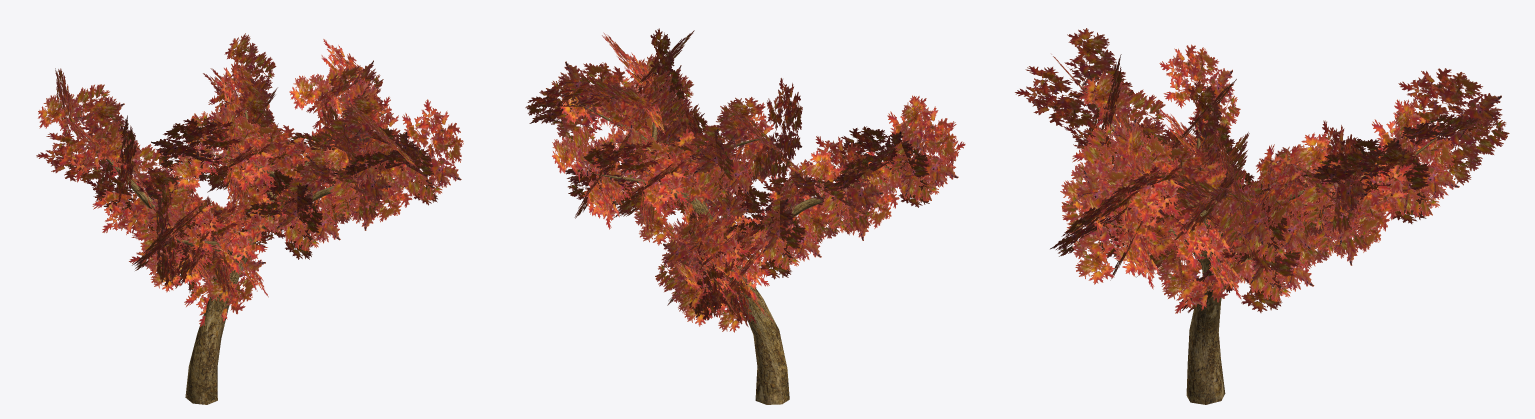
Rendered from Tree11.FBX.
The picture shows the model from 3 angles, left to right: view 1: azimuth 30°, elevation 25°; view 2: azimuth 150°, elevation 25°; view 3: azimuth 270°, elevation 25°; orthographic projection. The views are drawn at different scales.
Visible parts, largest first — view 1: Plane92, Plane105, Plane70, Cylinder10, Plane80, Plane66, Plane106, Plane102, Plane69, Plane89, Plane110, Plane85 (+34 smaller); view 2: Plane81, Plane71, Cylinder10, Plane113, Plane97, Plane77, Plane100, Plane98, Plane106, Plane104, Plane78, Plane103 (+29 smaller); view 3: Plane71, Plane111, Plane99, Plane114, Plane91, Plane82, Cylinder10, Plane68, Plane106, Plane79, Plane98, Plane100 (+30 smaller).
Boxes of the visible parts, left/top/right/bottom form: Plane92: left=376, top=99, right=463, bottom=200; Plane105: left=170, top=103, right=274, bottom=192; Plane70: left=38, top=84, right=124, bottom=182; Cylinder10: left=185, top=109, right=385, bottom=404; Plane80: left=136, top=191, right=225, bottom=292; Plane66: left=92, top=131, right=177, bottom=234; Plane106: left=151, top=117, right=241, bottom=187; Plane102: left=218, top=123, right=318, bottom=215; Plane69: left=36, top=97, right=139, bottom=182; Plane89: left=323, top=137, right=413, bottom=230; Plane110: left=316, top=94, right=409, bottom=167; Plane85: left=249, top=166, right=345, bottom=251; Plane81: left=859, top=95, right=958, bottom=201; Plane71: left=655, top=211, right=735, bottom=312; Cylinder10: left=592, top=104, right=789, bottom=404; Plane113: left=546, top=61, right=650, bottom=157; Plane97: left=583, top=124, right=687, bottom=219; Plane77: left=798, top=136, right=883, bottom=244; Plane100: left=552, top=126, right=622, bottom=229; Plane98: left=565, top=139, right=659, bottom=214; Plane106: left=748, top=78, right=802, bottom=182; Plane104: left=689, top=97, right=788, bottom=187; Plane78: left=805, top=147, right=899, bottom=240; Plane103: left=672, top=102, right=773, bottom=200; Plane71: left=1398, top=68, right=1509, bottom=185; Plane111: left=1060, top=118, right=1184, bottom=224; Plane99: left=1294, top=132, right=1412, bottom=245; Plane114: left=1200, top=144, right=1303, bottom=247; Plane91: left=1061, top=167, right=1173, bottom=284; Plane82: left=1015, top=28, right=1134, bottom=129; Cylinder10: left=1186, top=209, right=1225, bottom=404; Plane68: left=1351, top=99, right=1459, bottom=217; Plane106: left=1159, top=44, right=1240, bottom=156; Plane79: left=1072, top=71, right=1170, bottom=188; Plane98: left=1292, top=120, right=1367, bottom=239; Plane100: left=1303, top=146, right=1416, bottom=208.
Size of the model in its own units: 400 by 325 by 412.
Materials: 2 (2 with a texture image).
